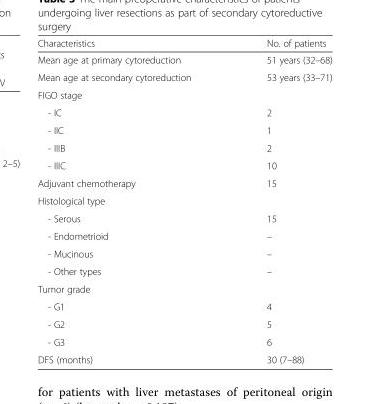table: (36, 37, 331, 364)
table column: (36, 37, 228, 364), (228, 37, 331, 364)
table column header: (36, 37, 331, 51)
table projected row header: (36, 85, 331, 103), (36, 191, 331, 209), (36, 279, 331, 297)
table row: (36, 85, 331, 103), (36, 103, 331, 121), (36, 138, 331, 156), (36, 156, 331, 174), (36, 191, 331, 209), (36, 226, 331, 244), (36, 244, 331, 262), (36, 279, 331, 297), (36, 297, 331, 315), (36, 332, 331, 350), (36, 51, 331, 68), (36, 68, 331, 85), (36, 121, 331, 138), (36, 174, 331, 191), (36, 209, 331, 226), (36, 262, 331, 279), (36, 315, 331, 332), (36, 37, 331, 51), (36, 350, 331, 364)
